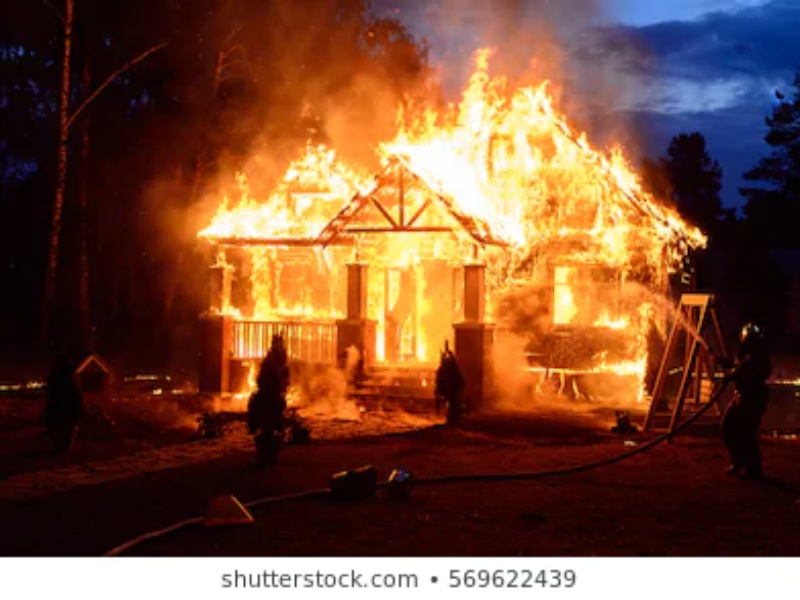fire: (182, 47, 709, 390)
